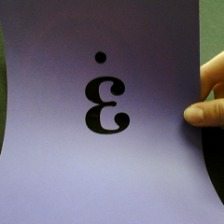violet3: (78, 49, 137, 136)
